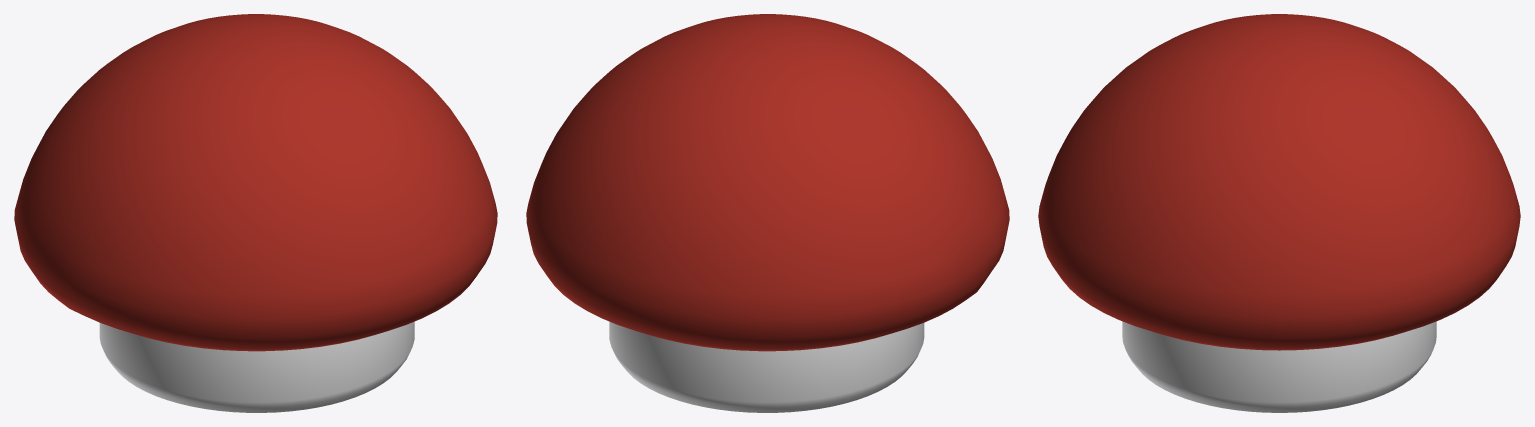
The model's file is Cogumelo_Vermelho.fbx.
The picture shows the model from 3 angles, left to right: view 1: azimuth 30°, elevation 25°; view 2: azimuth 150°, elevation 25°; view 3: azimuth 270°, elevation 25°; orthographic projection.
Visible parts, largest first — view 1: Sphere002, Object; view 2: Sphere002, Object; view 3: Sphere002, Object.
Boxes of the visible parts, box(x1,y1,x2,y2) form: Sphere002: box(14, 14, 497, 351); Object: box(99, 321, 414, 412); Sphere002: box(526, 14, 1009, 351); Object: box(609, 321, 924, 412); Sphere002: box(1038, 14, 1520, 350); Object: box(1122, 321, 1436, 412).
Size of the model in its own units: 52.07 by 37.45 by 52.32.
